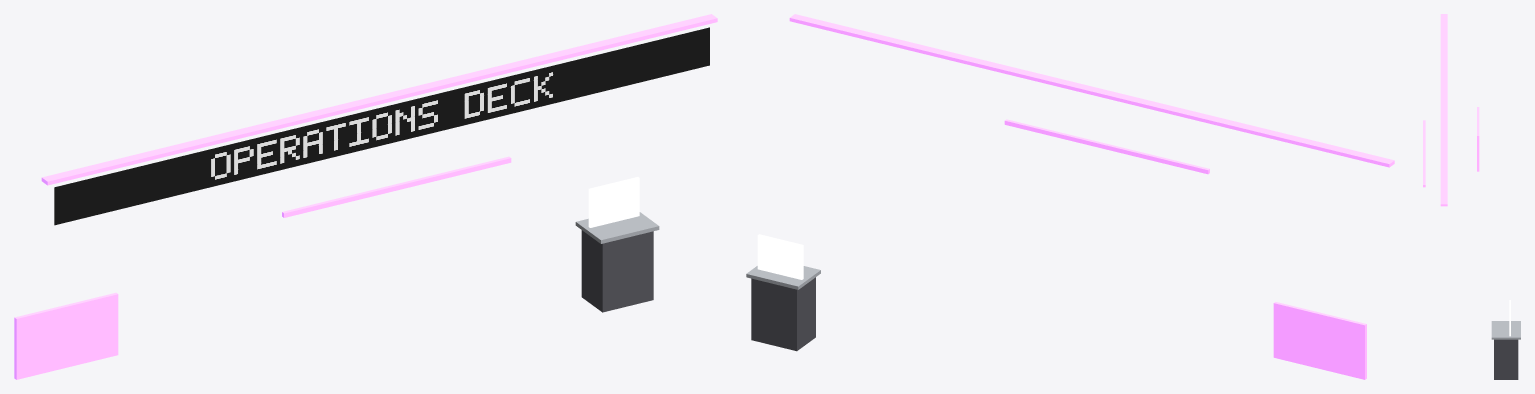
The model's file is room-ecology-dao-4.glb.
3 renders of one model, left to right at view 1: azimuth 30°, elevation 25°; view 2: azimuth 150°, elevation 25°; view 3: azimuth 270°, elevation 25°, orthographic. The views are drawn at different scales.
Visible parts, largest first — view 1: Ecology DAO Operations Deck room; view 2: Ecology DAO Operations Deck room; view 3: Ecology DAO Operations Deck room.
Boxes of the visible parts, x1,y1,x2,y2 form: Ecology DAO Operations Deck room: (14, 14, 717, 379); Ecology DAO Operations Deck room: (746, 14, 1394, 379); Ecology DAO Operations Deck room: (1423, 14, 1520, 379).
Size of the model in its own units: 9.2 by 4.08 by 2.
5 materials, 1 textured.
